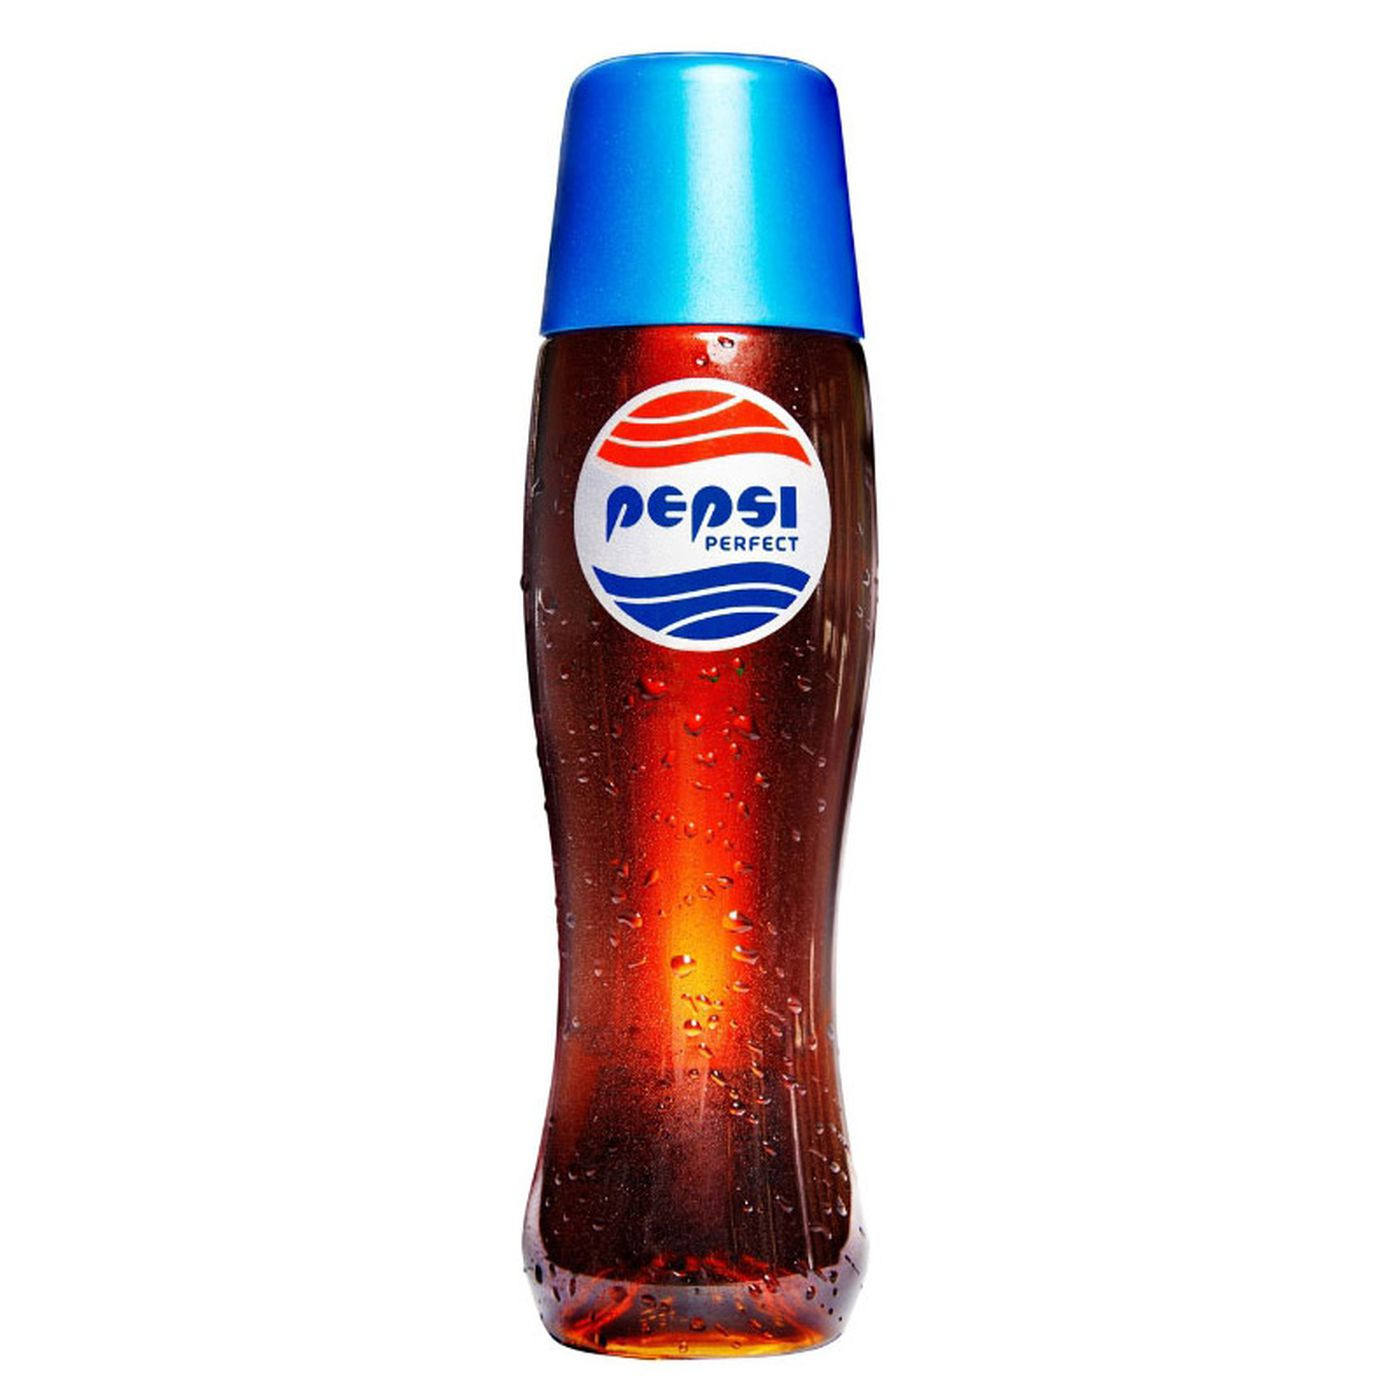pepsi: (564, 365, 835, 654), (569, 365, 835, 654), (569, 373, 835, 654)
